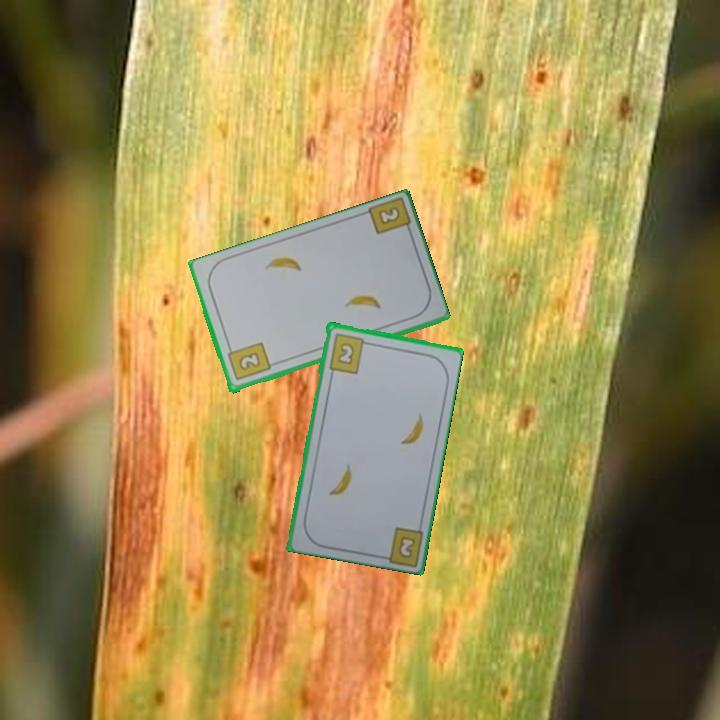2b: (224, 339, 273, 384), (325, 330, 372, 376), (375, 203, 403, 228), (395, 532, 418, 561)
